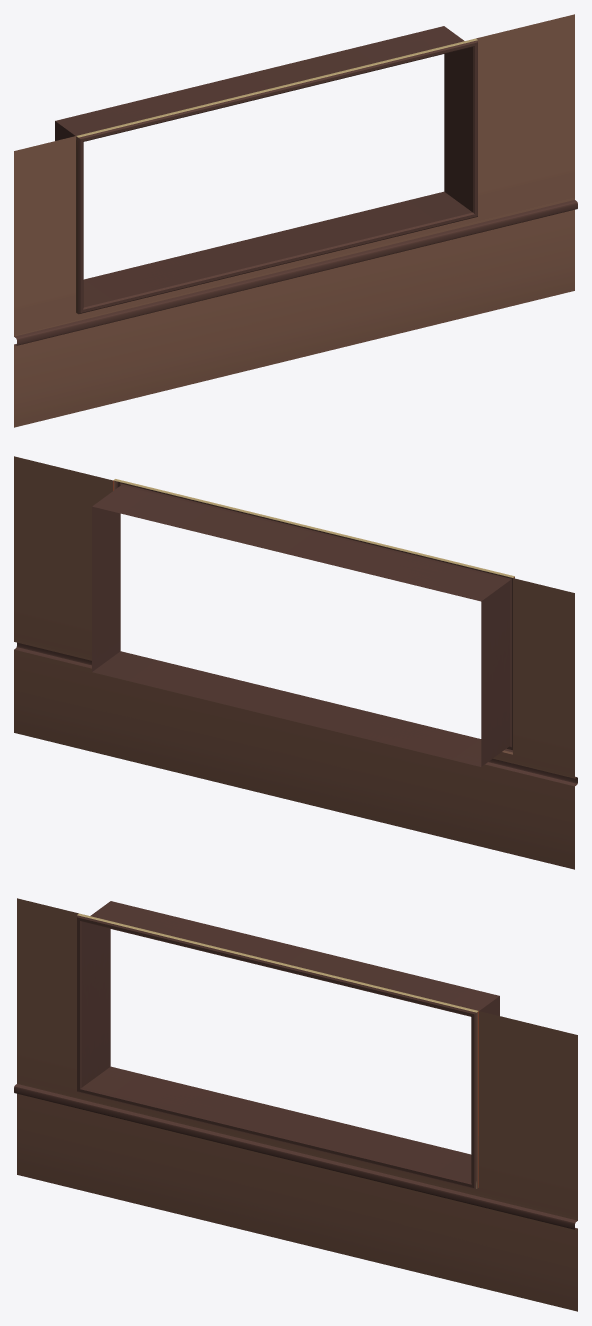
File: mur.fbx
The picture shows the model from 3 angles, top to bottom: view 1: azimuth 30°, elevation 25°; view 2: azimuth 150°, elevation 25°; view 3: azimuth 330°, elevation 25°; orthographic projection.
Parts seen in each view (by area): view 1: mur; view 2: mur; view 3: mur.
Part boxes in pixels (left/top/right/bottom): mur: left=14, top=14, right=577, bottom=427; mur: left=14, top=456, right=577, bottom=869; mur: left=14, top=898, right=577, bottom=1311.
Bounding box in the file's own units: 616 × 290 × 56.01.
